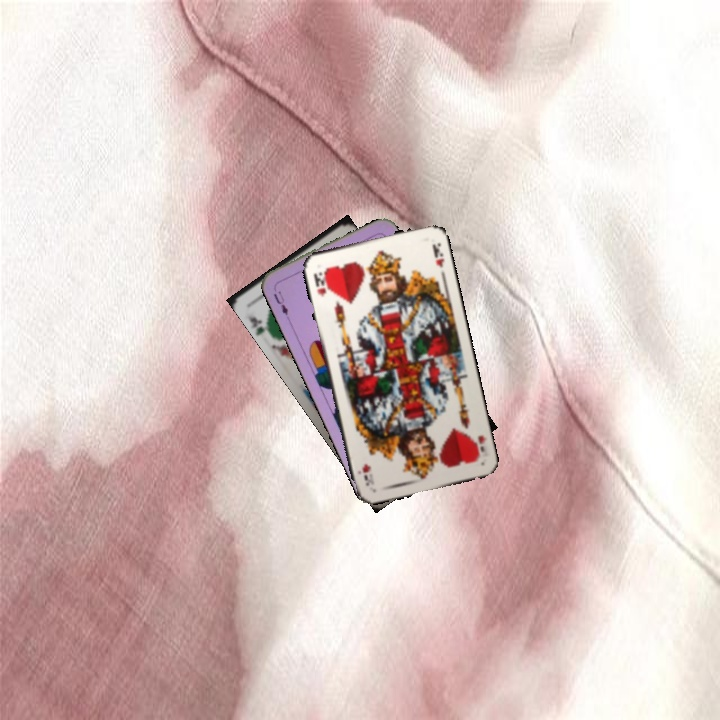EU: (269, 283, 292, 322)
GK: (244, 312, 273, 338)
HK: (309, 268, 331, 300), (468, 431, 488, 463)
